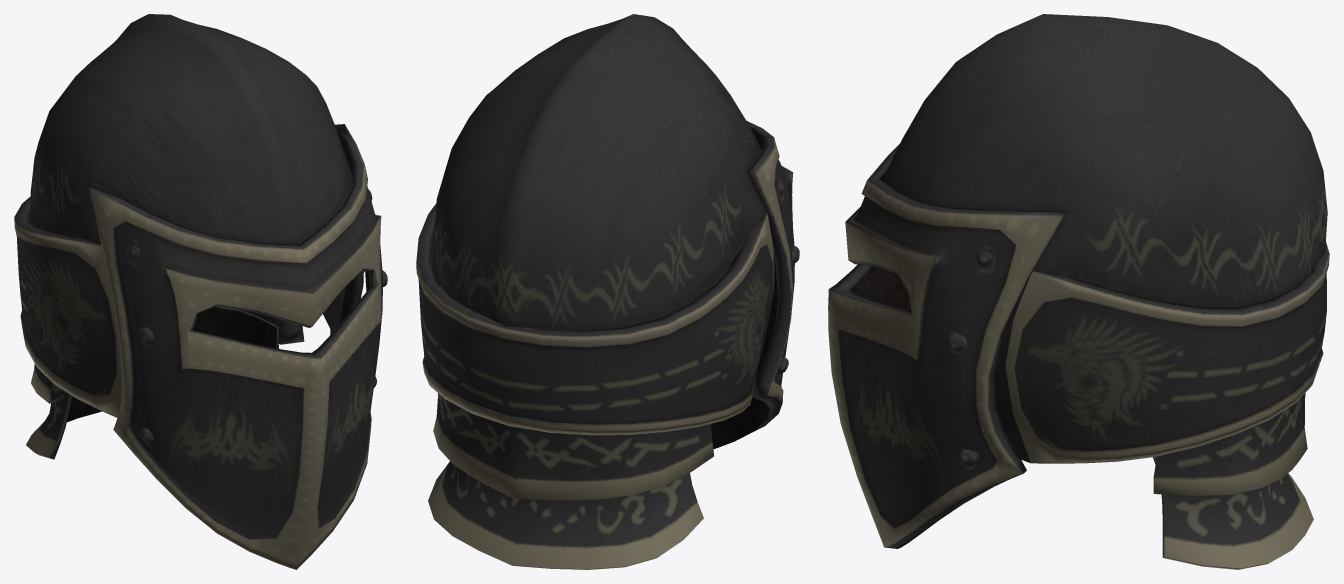
3 views of the same model, side by side, from view 1: azimuth 30°, elevation 25°; view 2: azimuth 150°, elevation 25°; view 3: azimuth 270°, elevation 25° (orthographic). The views are drawn at different scales.
Visible parts, largest first — view 1: PM3D_Cylinder3D_1; view 2: PM3D_Cylinder3D_1; view 3: PM3D_Cylinder3D_1.
Part boxes in pixels (x1,y1,x2,y2): PM3D_Cylinder3D_1: (14, 14, 387, 569); PM3D_Cylinder3D_1: (416, 14, 799, 569); PM3D_Cylinder3D_1: (828, 14, 1329, 569).
Size of the model in its own units: 7.54 by 11.62 by 9.88.
